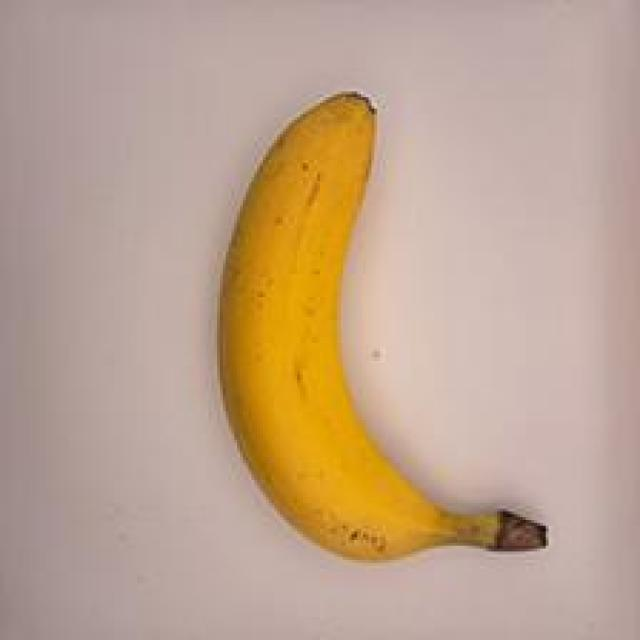Ripe: (132, 27, 562, 616)
